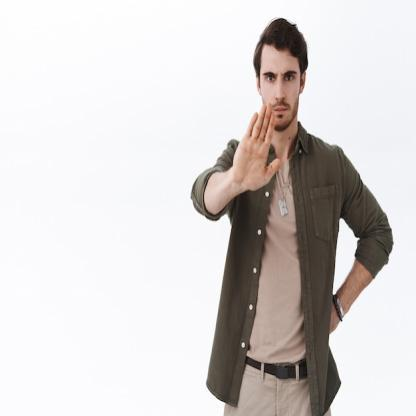stop: (230, 92, 282, 195)
